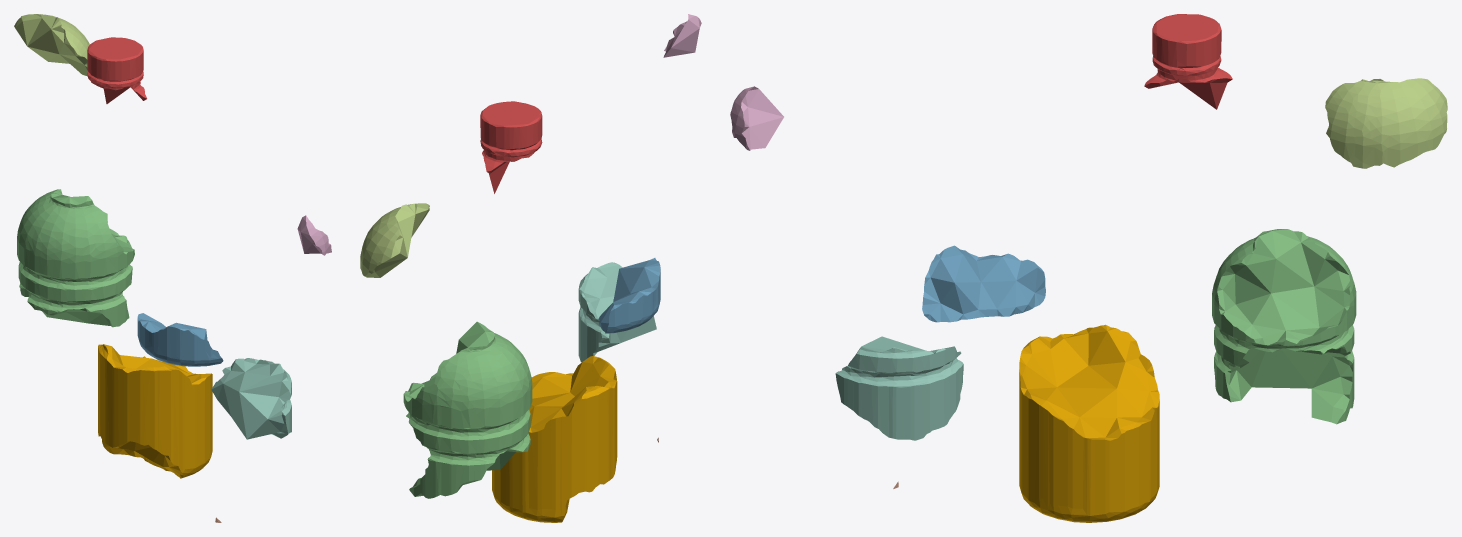
File: mode_8_8pcs_transformed.glb
3 renders of one model, left to right at view 1: azimuth 30°, elevation 25°; view 2: azimuth 150°, elevation 25°; view 3: azimuth 270°, elevation 25°, orthographic. The views are drawn at different scales.
Parts seen in each view (by area): view 1: piece_3.obj, piece_0.obj, piece_4.obj, piece_1.obj, piece_2.obj, piece_5.obj, piece_6.obj; view 2: piece_3.obj, piece_0.obj, piece_1.obj, piece_4.obj, piece_2.obj, piece_5.obj, piece_6.obj; view 3: piece_0.obj, piece_3.obj, piece_4.obj, piece_5.obj, piece_2.obj, piece_1.obj, piece_6.obj.
Part boxes in pixels (x1=…): piece_3.obj: x1=17, y1=189, x2=134, y2=327; piece_0.obj: x1=98, y1=344, x2=212, y2=478; piece_4.obj: x1=211, y1=358, x2=291, y2=439; piece_1.obj: x1=87, y1=37, x2=147, y2=103; piece_2.obj: x1=137, y1=313, x2=223, y2=366; piece_5.obj: x1=14, y1=14, x2=89, y2=76; piece_6.obj: x1=297, y1=215, x2=331, y2=255; piece_3.obj: x1=403, y1=321, x2=532, y2=498; piece_0.obj: x1=492, y1=356, x2=617, y2=522; piece_1.obj: x1=480, y1=101, x2=542, y2=193; piece_4.obj: x1=578, y1=262, x2=656, y2=362; piece_2.obj: x1=598, y1=258, x2=660, y2=333; piece_5.obj: x1=360, y1=203, x2=429, y2=277; piece_6.obj: x1=663, y1=14, x2=701, y2=57; piece_0.obj: x1=1019, y1=324, x2=1159, y2=522; piece_3.obj: x1=1212, y1=229, x2=1356, y2=424; piece_4.obj: x1=835, y1=336, x2=963, y2=440; piece_5.obj: x1=1325, y1=78, x2=1447, y2=168; piece_2.obj: x1=922, y1=245, x2=1045, y2=322; piece_1.obj: x1=1144, y1=14, x2=1232, y2=109; piece_6.obj: x1=730, y1=86, x2=783, y2=150.
Size of the model in its own units: 0.4463 by 1.6 by 2.21.
